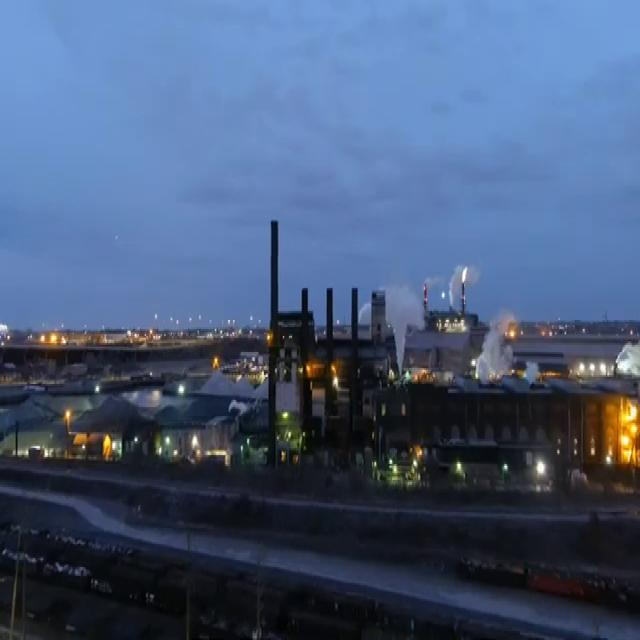smoke: (377, 268, 485, 377), (469, 315, 567, 384)
